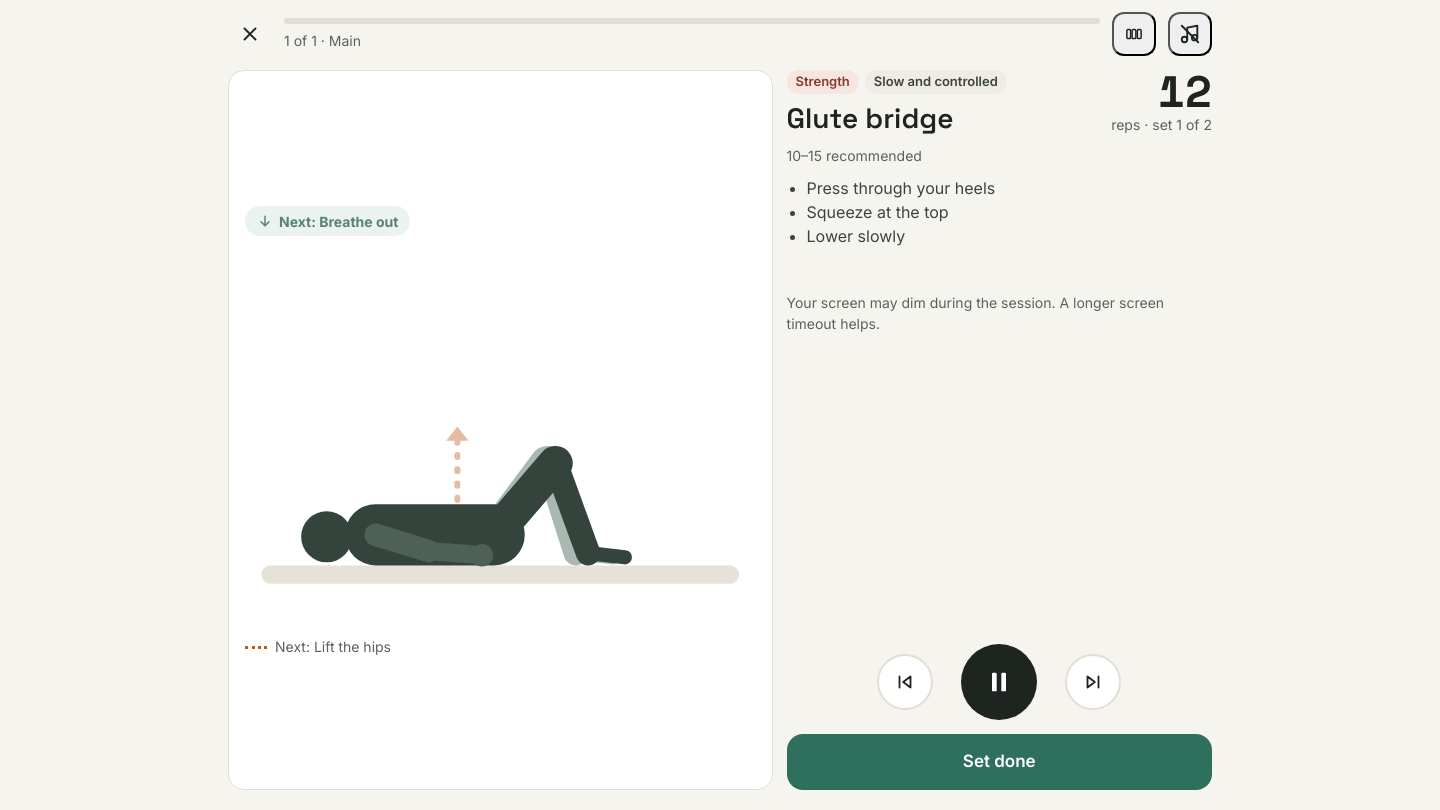
PlayerScreen › Skip next time marks the exercise Not for me and moves on (006 US3)
This screenshot has width=1440, height=810.
Click the button "Set done". click: (999, 762)
box: [786,734,1212,790]
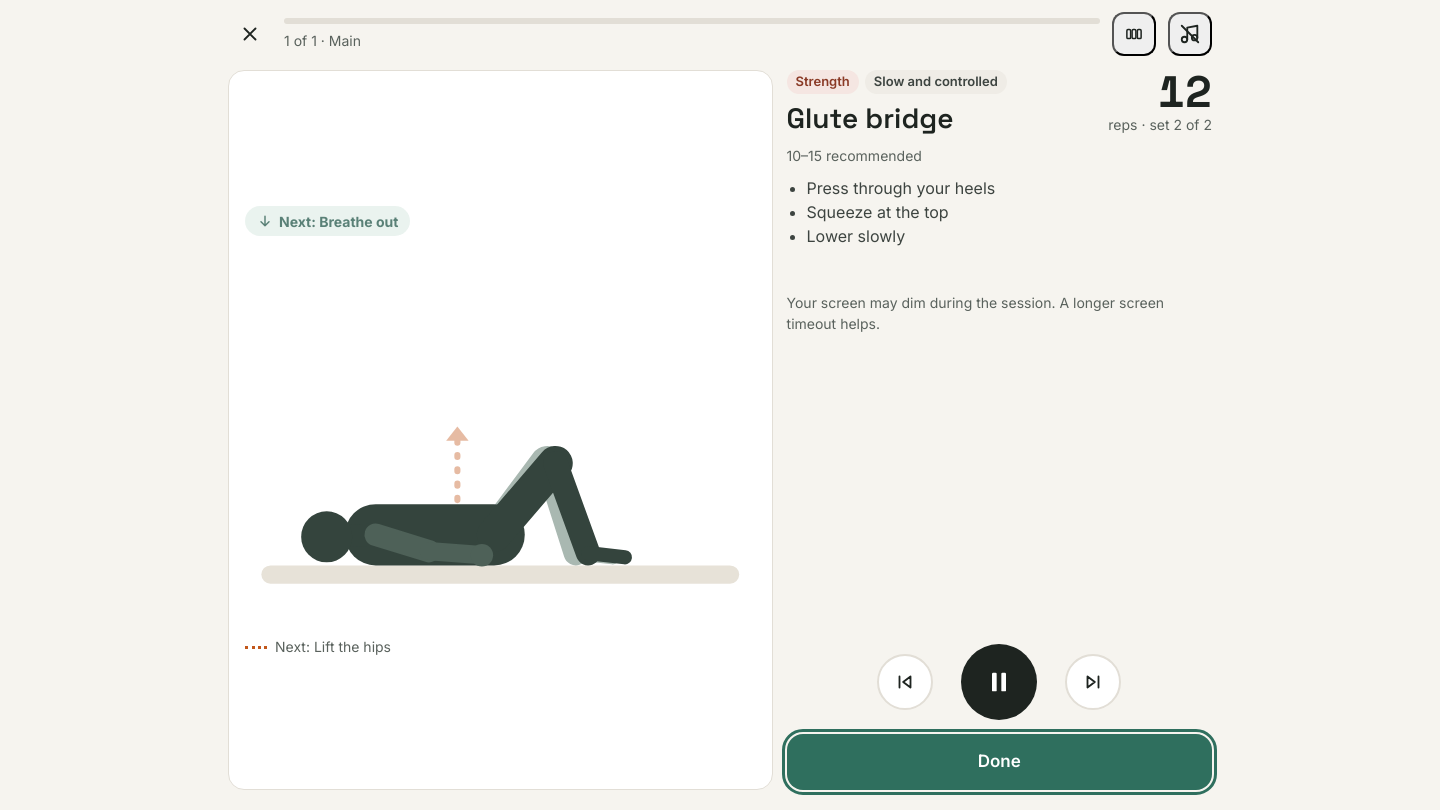
Click the button "Done". click: (999, 762)
box: [786,734,1212,790]
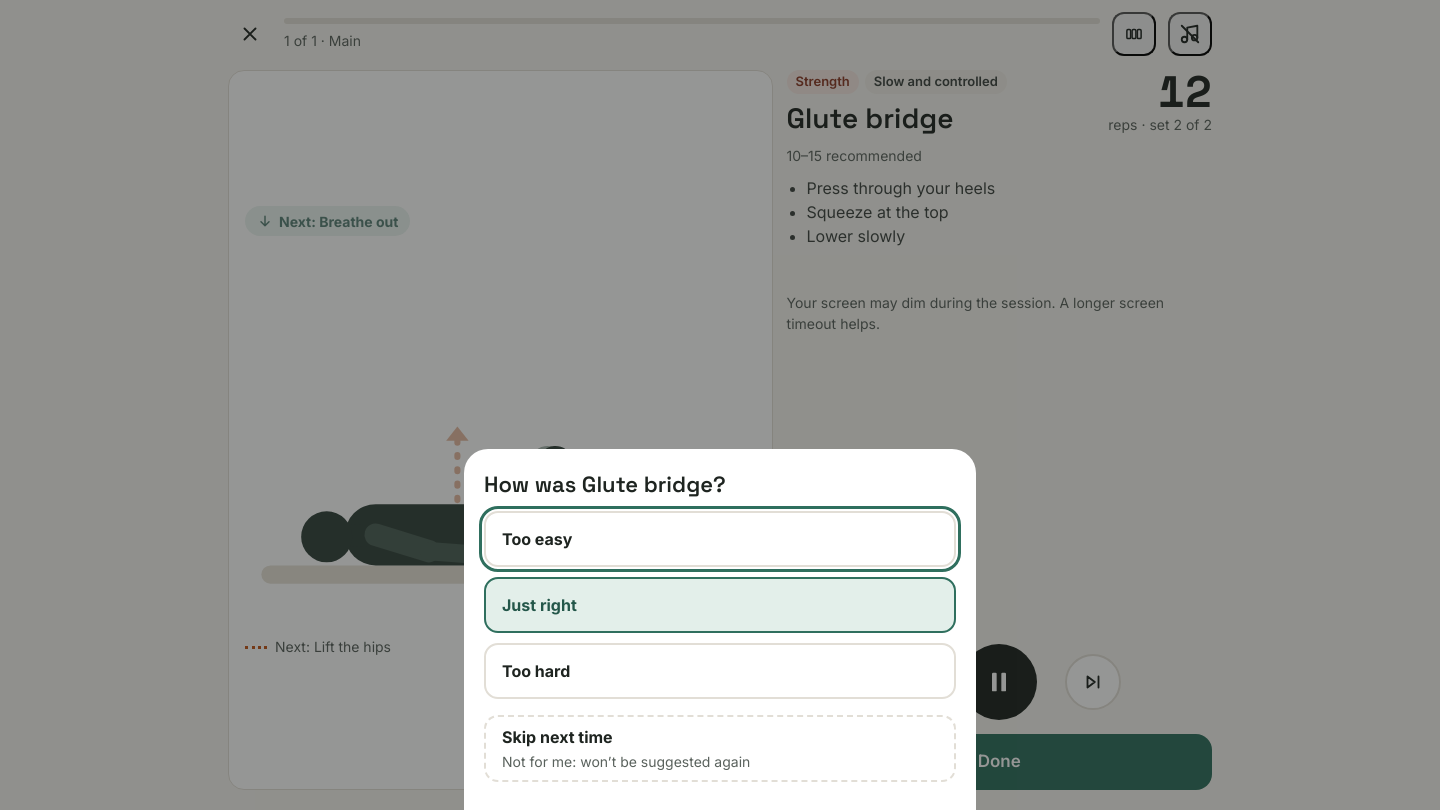
Click the button "Skip next time Not for me: won’t be suggested again". click: (557, 737)
box: [484,715,956,782]
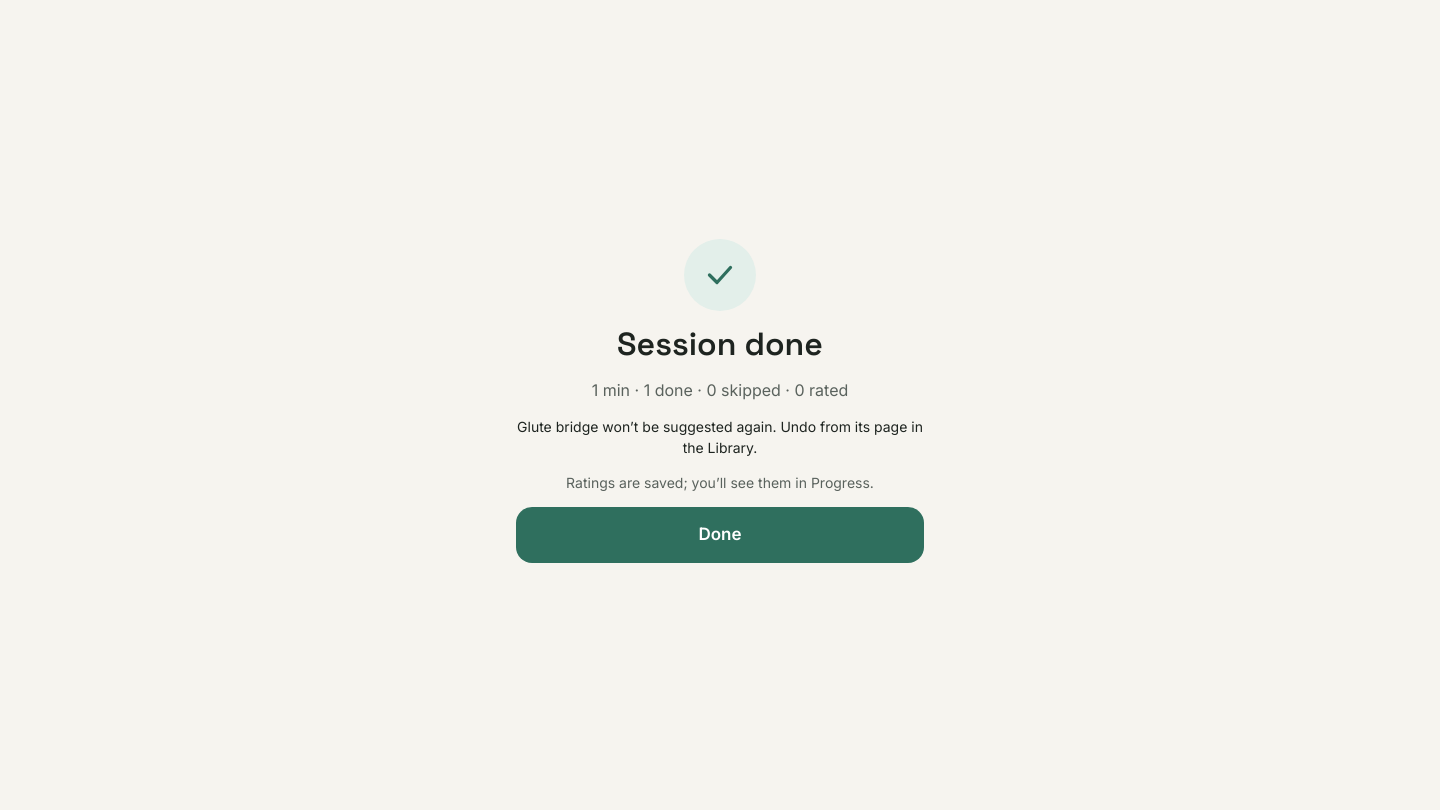
Expected: the heading "Session done" is shown, [617,325,823,364]
Expected: the text "1 min · 1 done · 0 skipped · 0 rated" is shown, [592,378,848,402]
Expected: the text "Glute bridge won’t be suggested again" is shown, [517,418,923,456]
